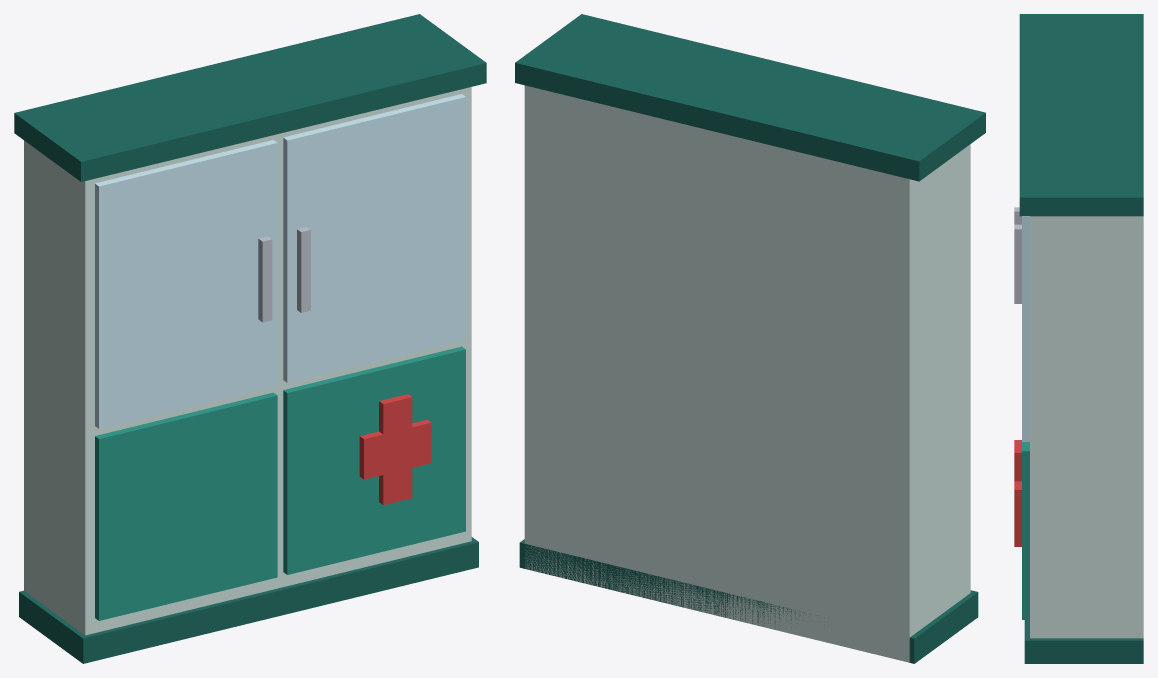
The model's file is medicine-cabinet.glb.
3 renders of one model, left to right at view 1: azimuth 30°, elevation 25°; view 2: azimuth 150°, elevation 25°; view 3: azimuth 270°, elevation 25°, orthographic. The views are drawn at different scales.
Visible parts, largest first — view 1: medicine-cabinet; view 2: medicine-cabinet; view 3: medicine-cabinet.
Boxes of the visible parts, box(x1,y1,x2,y2) form: medicine-cabinet: box(14, 14, 486, 663); medicine-cabinet: box(515, 14, 985, 663); medicine-cabinet: box(1014, 14, 1143, 663).
Size of the model in its own units: 0.84 by 1 by 0.25.
1 material, 1 textured.
